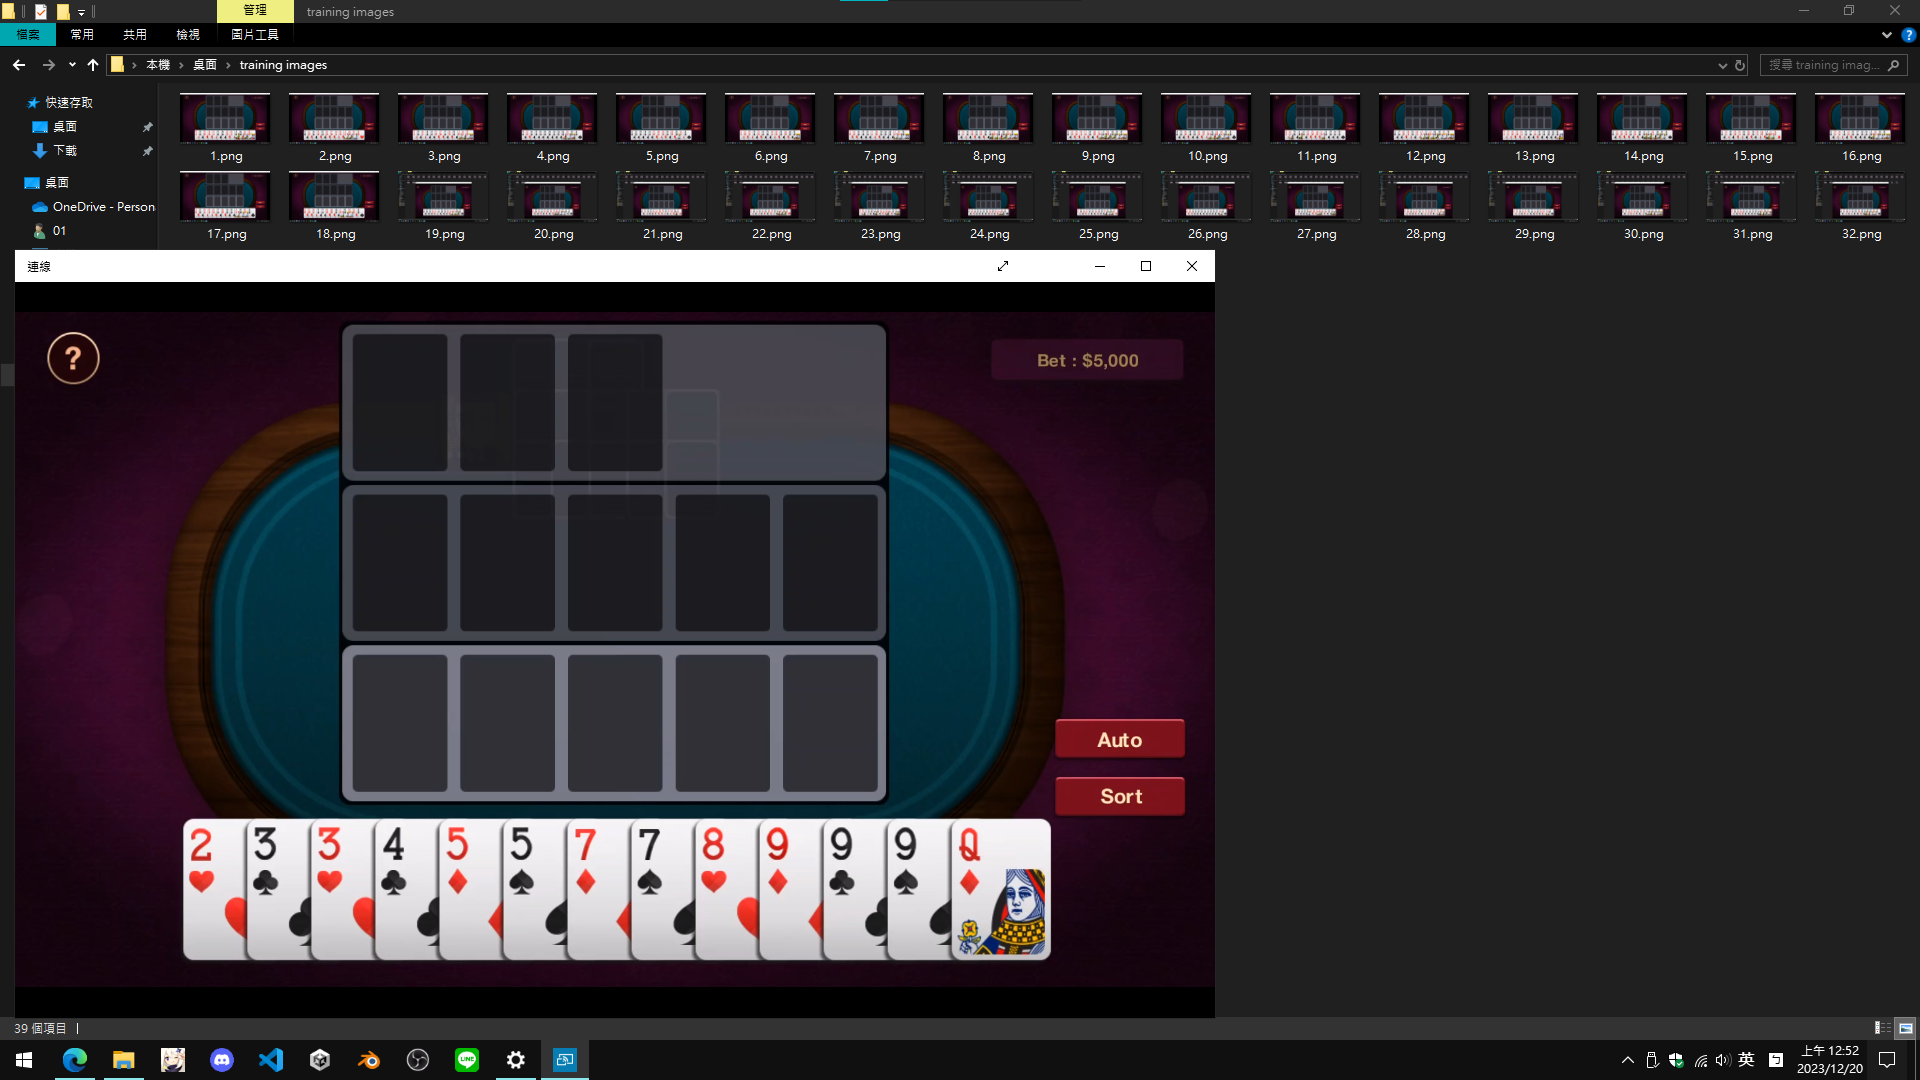2H: (187, 823, 219, 898)
3C: (248, 824, 279, 899)
3H: (315, 825, 345, 898)
4C: (380, 824, 406, 902)
5D: (442, 824, 474, 897)
5S: (508, 824, 536, 898)
7D: (572, 826, 599, 900)
7S: (634, 826, 665, 902)
8H: (699, 826, 729, 898)
9C: (826, 825, 859, 902)
9D: (762, 824, 792, 899)
9S: (891, 824, 923, 902)
QD: (955, 825, 982, 899)
